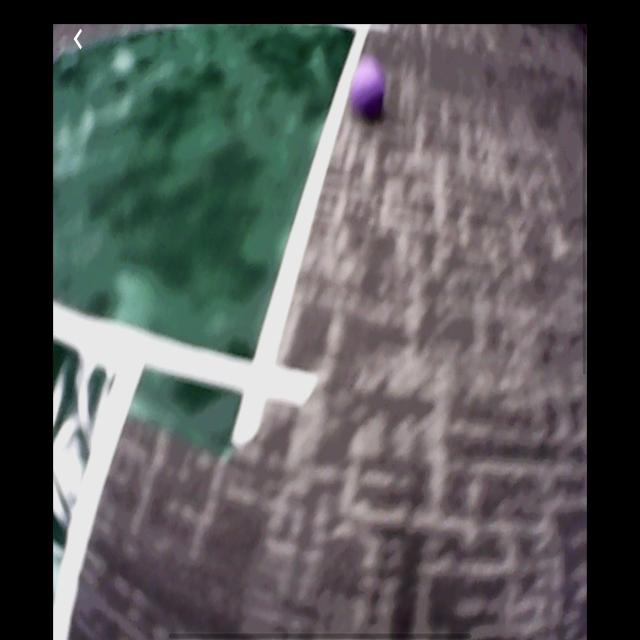ball: (350, 54, 387, 124)
